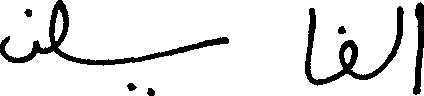X: (0, 0, 67, 67), (339, 21, 355, 83), (306, 3, 314, 89), (417, 0, 423, 95), (396, 1, 401, 58), (219, 32, 229, 49)
